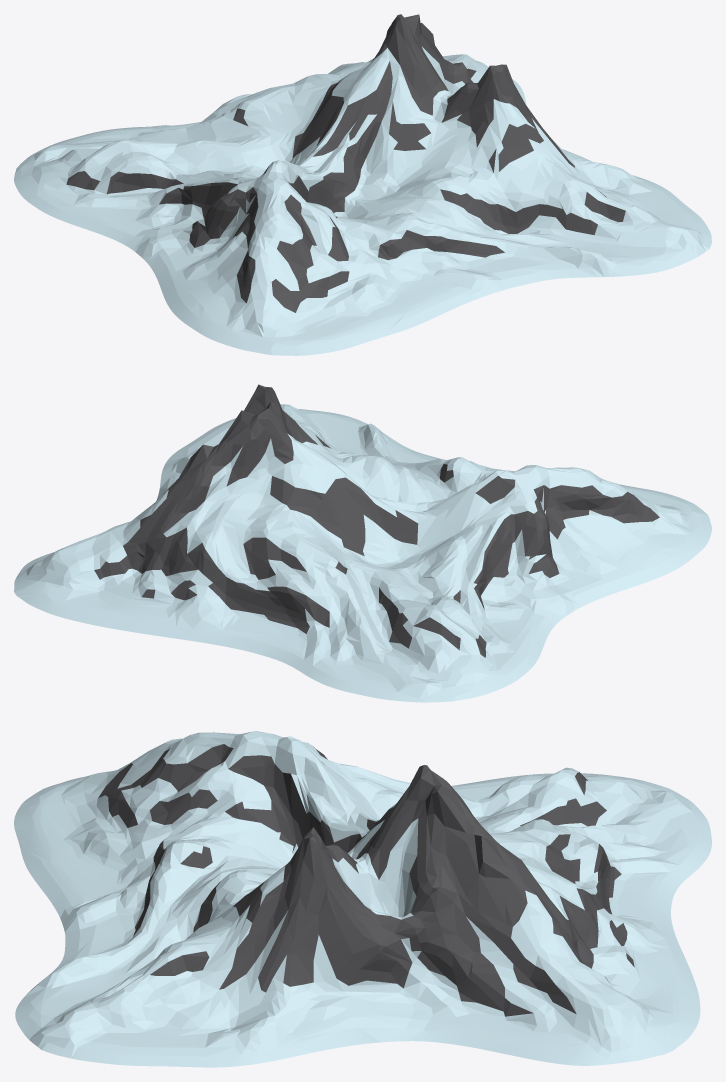
File: Motaña_Nieve_01.glb
3 views of the same model, one above another, from view 1: azimuth 30°, elevation 25°; view 2: azimuth 150°, elevation 25°; view 3: azimuth 270°, elevation 25° (orthographic). The views are drawn at different scales.
Parts seen in each view (by area): view 1: SM_Env_Mountains_01_1; view 2: SM_Env_Mountains_01_1; view 3: SM_Env_Mountains_01_1.
Boxes of the visible parts, x1,y1,x2,y2 form: SM_Env_Mountains_01_1: [14, 14, 711, 355]; SM_Env_Mountains_01_1: [14, 384, 711, 702]; SM_Env_Mountains_01_1: [14, 731, 711, 1067].
Bounding box in the file's own units: 94.58 × 28.65 × 93.48.
1 material, 1 textured.
